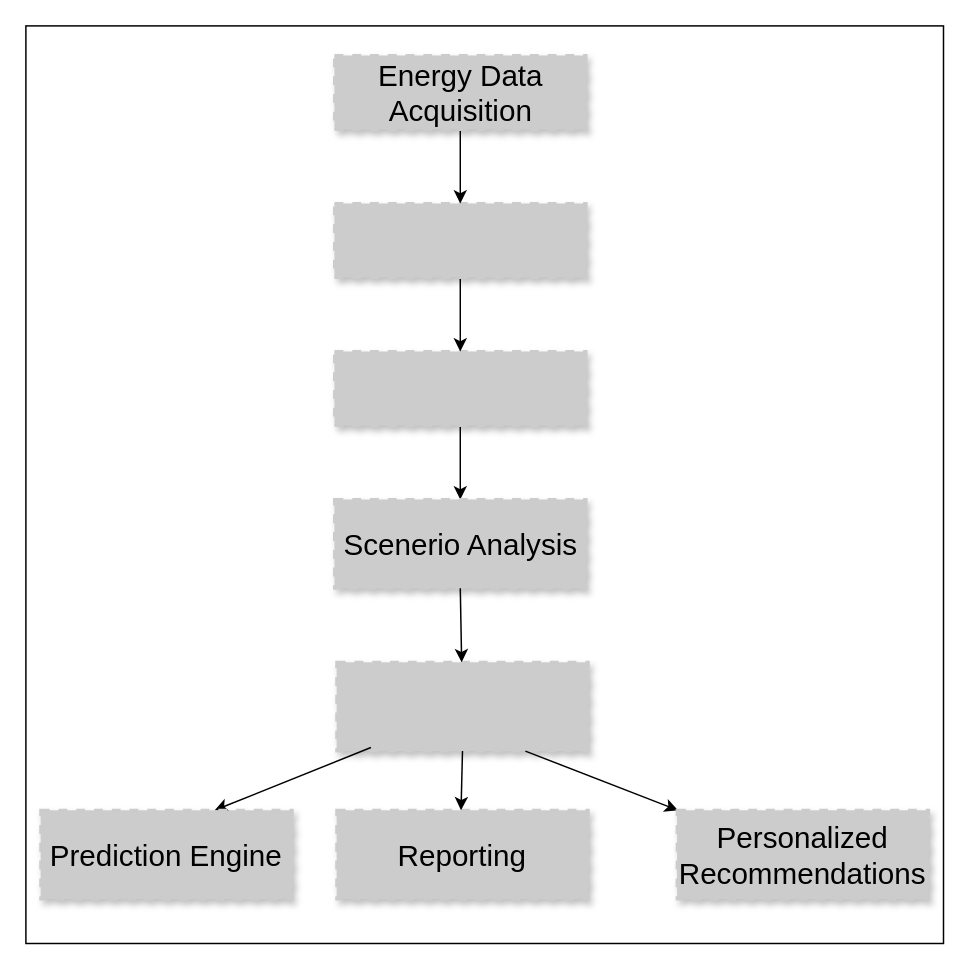
The diagram is 969 pixels wide and 969 high, and some of its shapes have lost their labels. The centre of each missing label's shape, as x and y in pixels:
Energy Data Storage: point (461, 242)
ETL: point (461, 390)
Visualization: point (463, 708)
